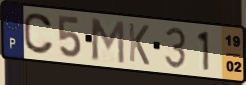1: (196, 30, 212, 72)
3: (162, 26, 188, 71)
5: (56, 14, 83, 59)
C: (22, 11, 56, 56)
K: (127, 21, 151, 68)
M: (89, 16, 127, 66)
